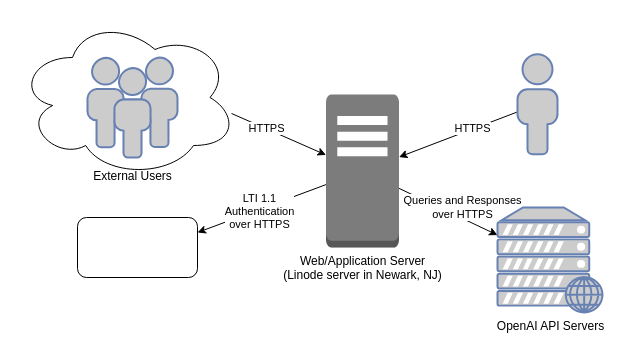
This 621x351 diagram has some shape labels left out. Each missing label, with the centre of its shape:
"Administrator" belongs at (537,104).
"LMS" belongs at (137,247).
